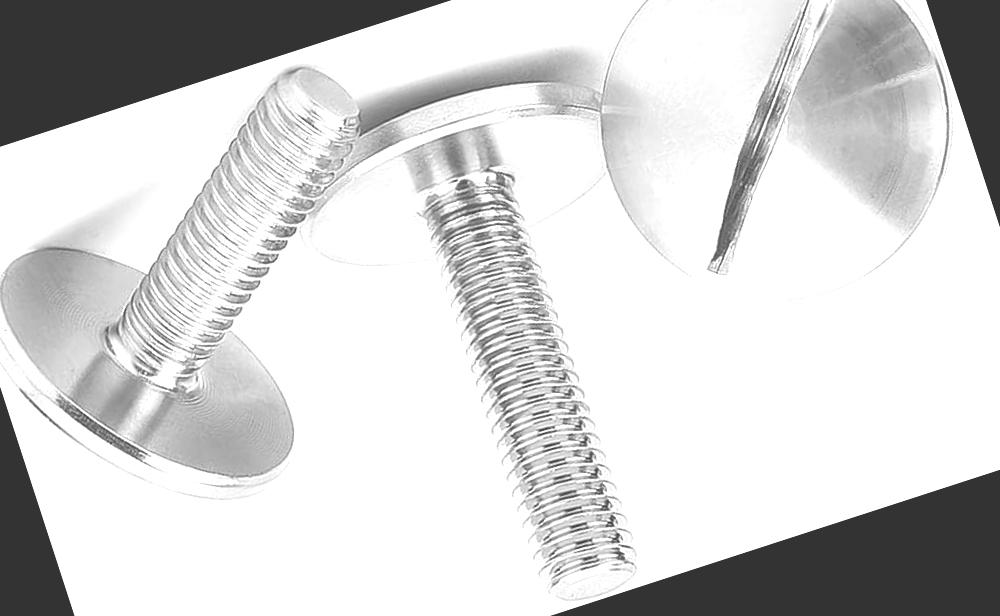screw: (549, 0, 993, 349)
